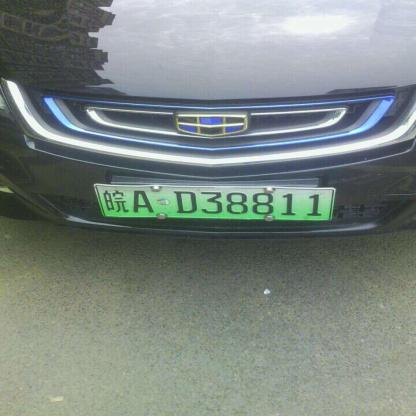lp: (94, 185, 334, 220)
